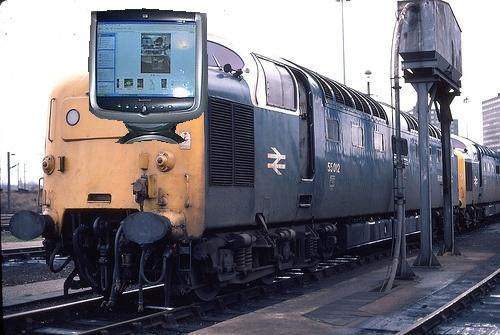tampered: (89, 9, 208, 144)
